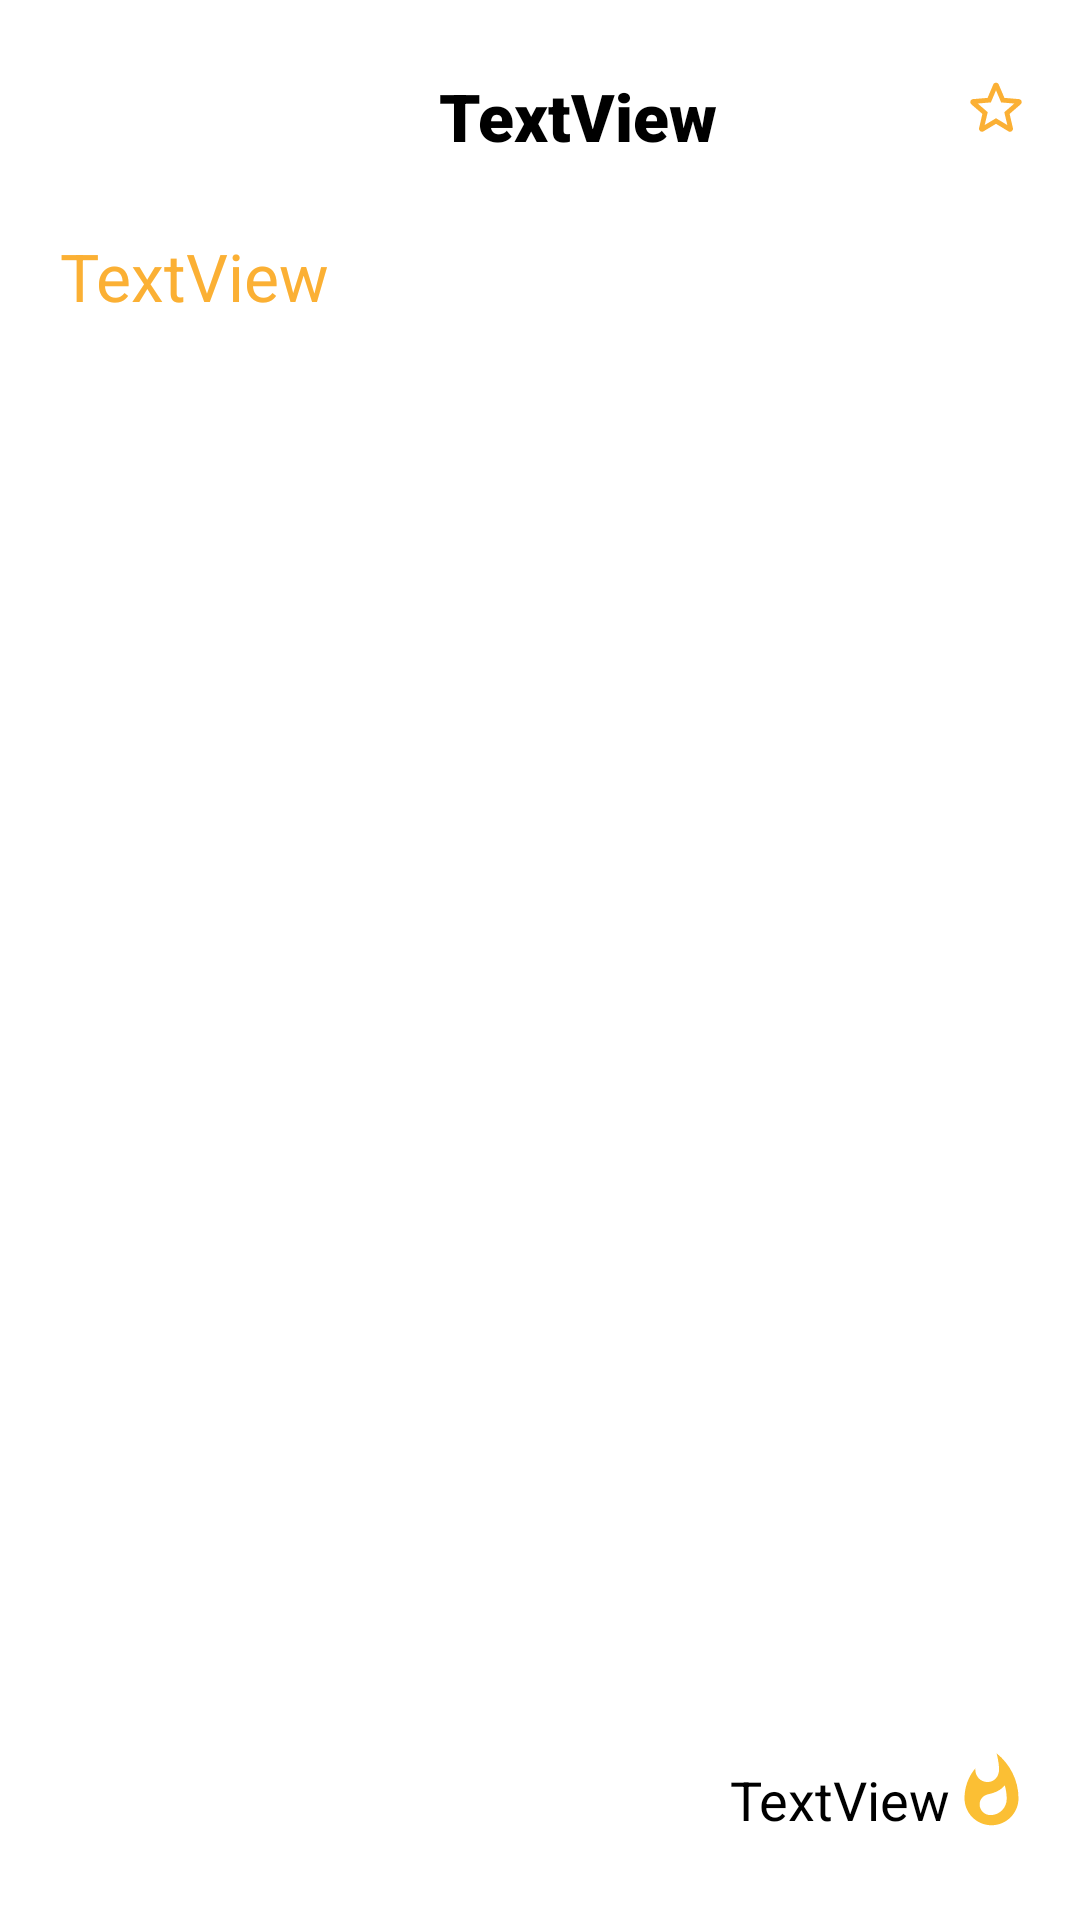

Icon bounding boxes for this 1080*1920 phone screenshot, format rect(x1, y1, x2, y2):
star border: rect(970, 82, 1022, 132)
whatshot: rect(964, 1753, 1019, 1826)
